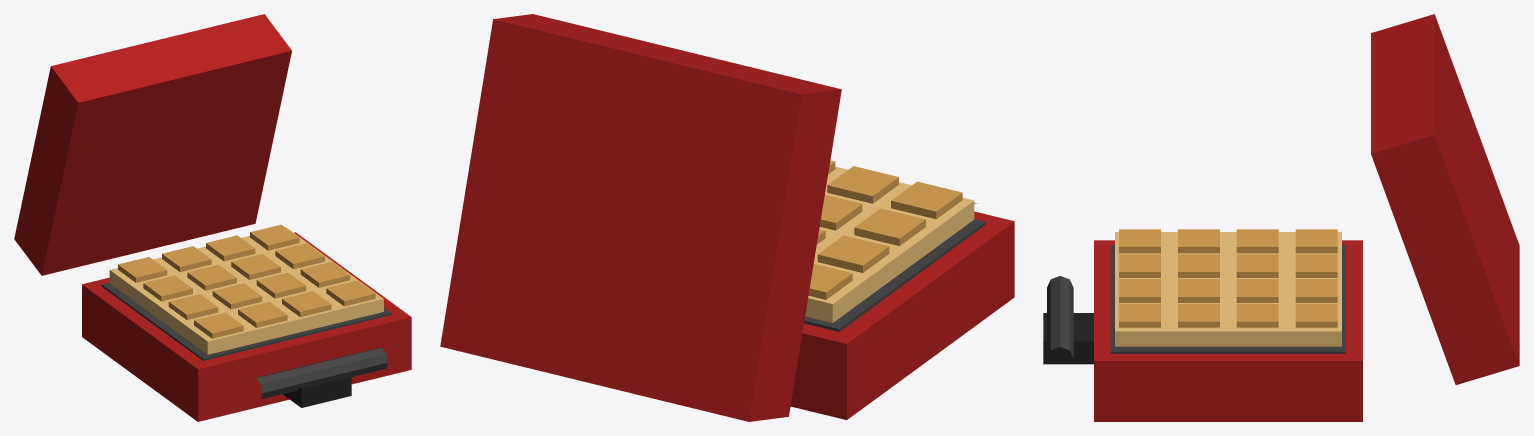
The model's file is vaffeljarn.glb.
3 views of the same model, side by side, from view 1: azimuth 30°, elevation 25°; view 2: azimuth 150°, elevation 25°; view 3: azimuth 270°, elevation 25° (orthographic). The views are drawn at different scales.
Parts seen in each view (by area): view 1: vaffeljarn; view 2: vaffeljarn; view 3: vaffeljarn.
Boxes of the visible parts, x1=… form: vaffeljarn: x1=14, y1=14, x2=411, y2=421; vaffeljarn: x1=440, y1=14, x2=1014, y2=421; vaffeljarn: x1=1043, y1=14, x2=1519, y2=421.
Bounding box in the file's own units: 0.34 × 0.3771 × 0.5664.
